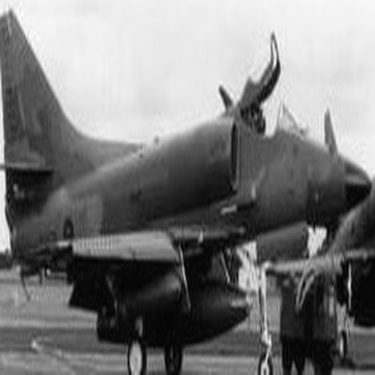airplane: (1, 2, 369, 370)
